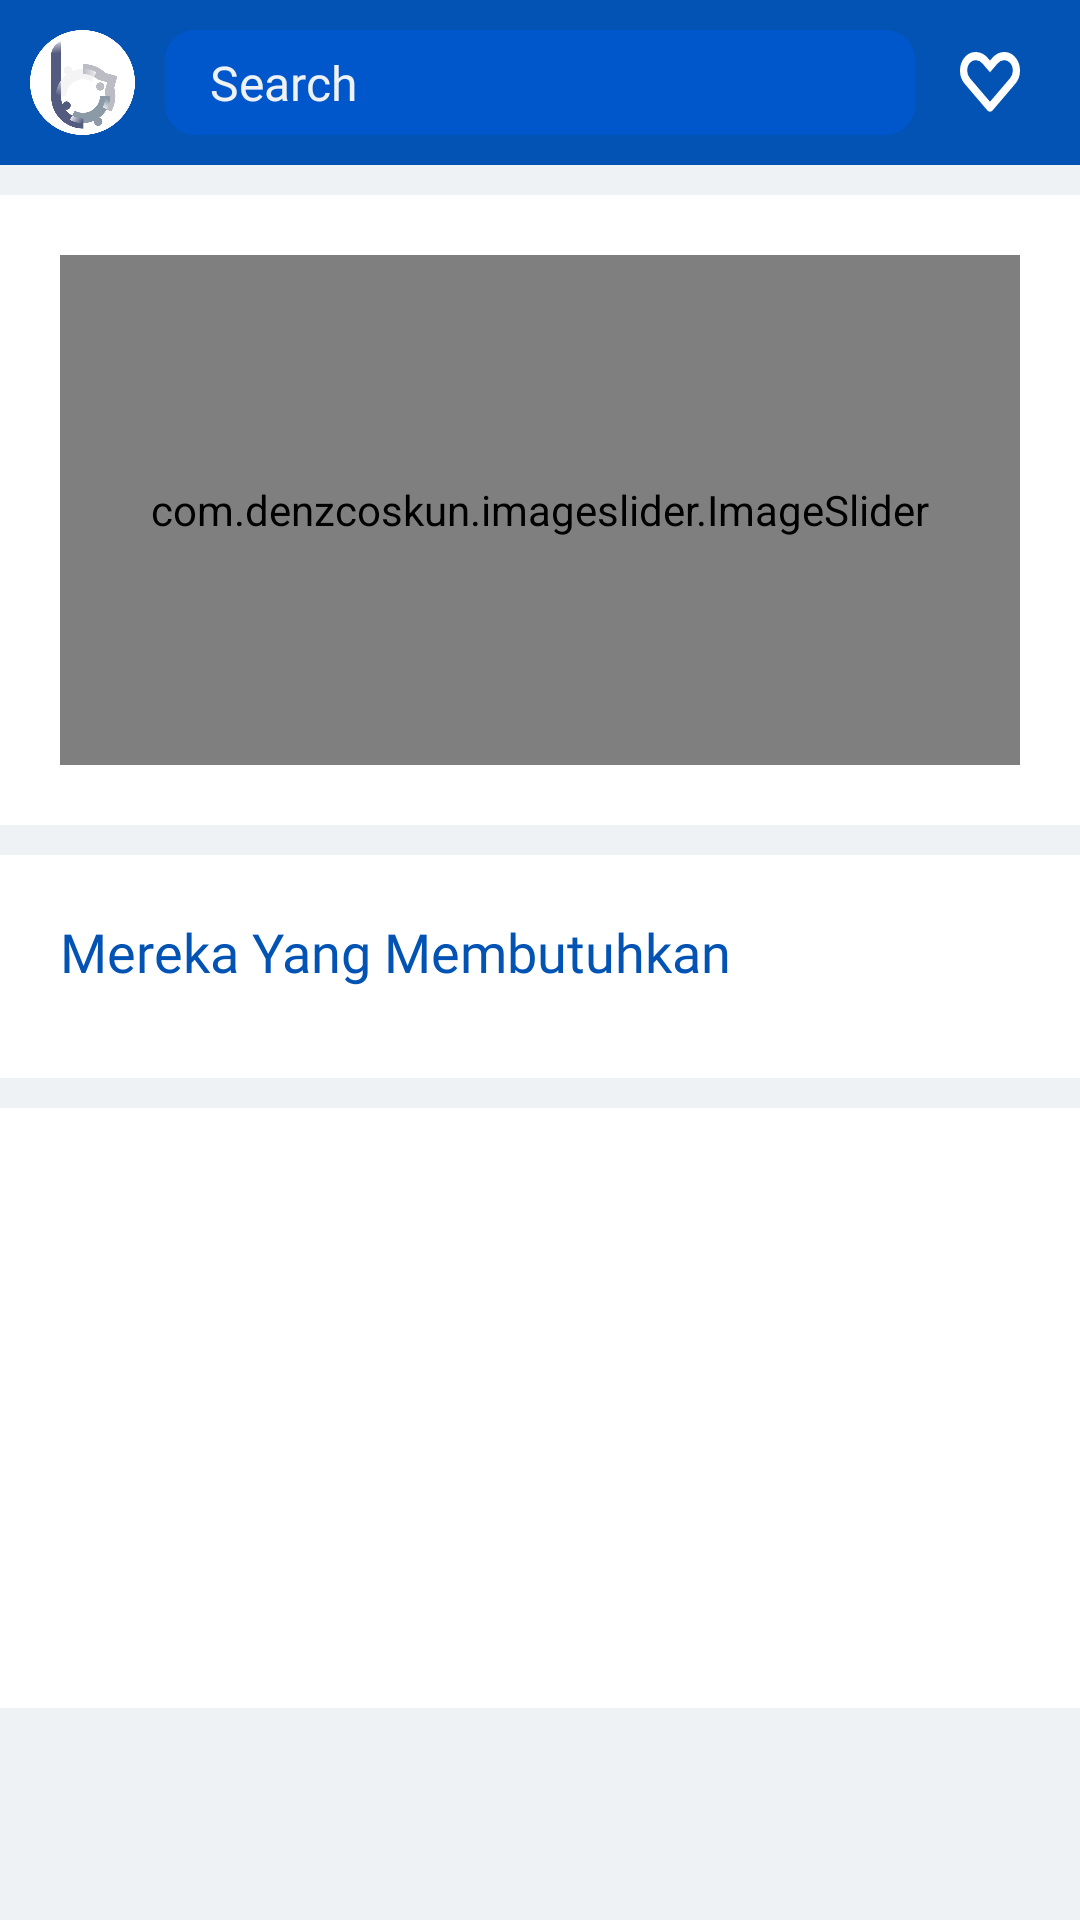

Icon click points for this 1080x1920 phone screenshot, format point (x, y):
love line: point (990, 82)
